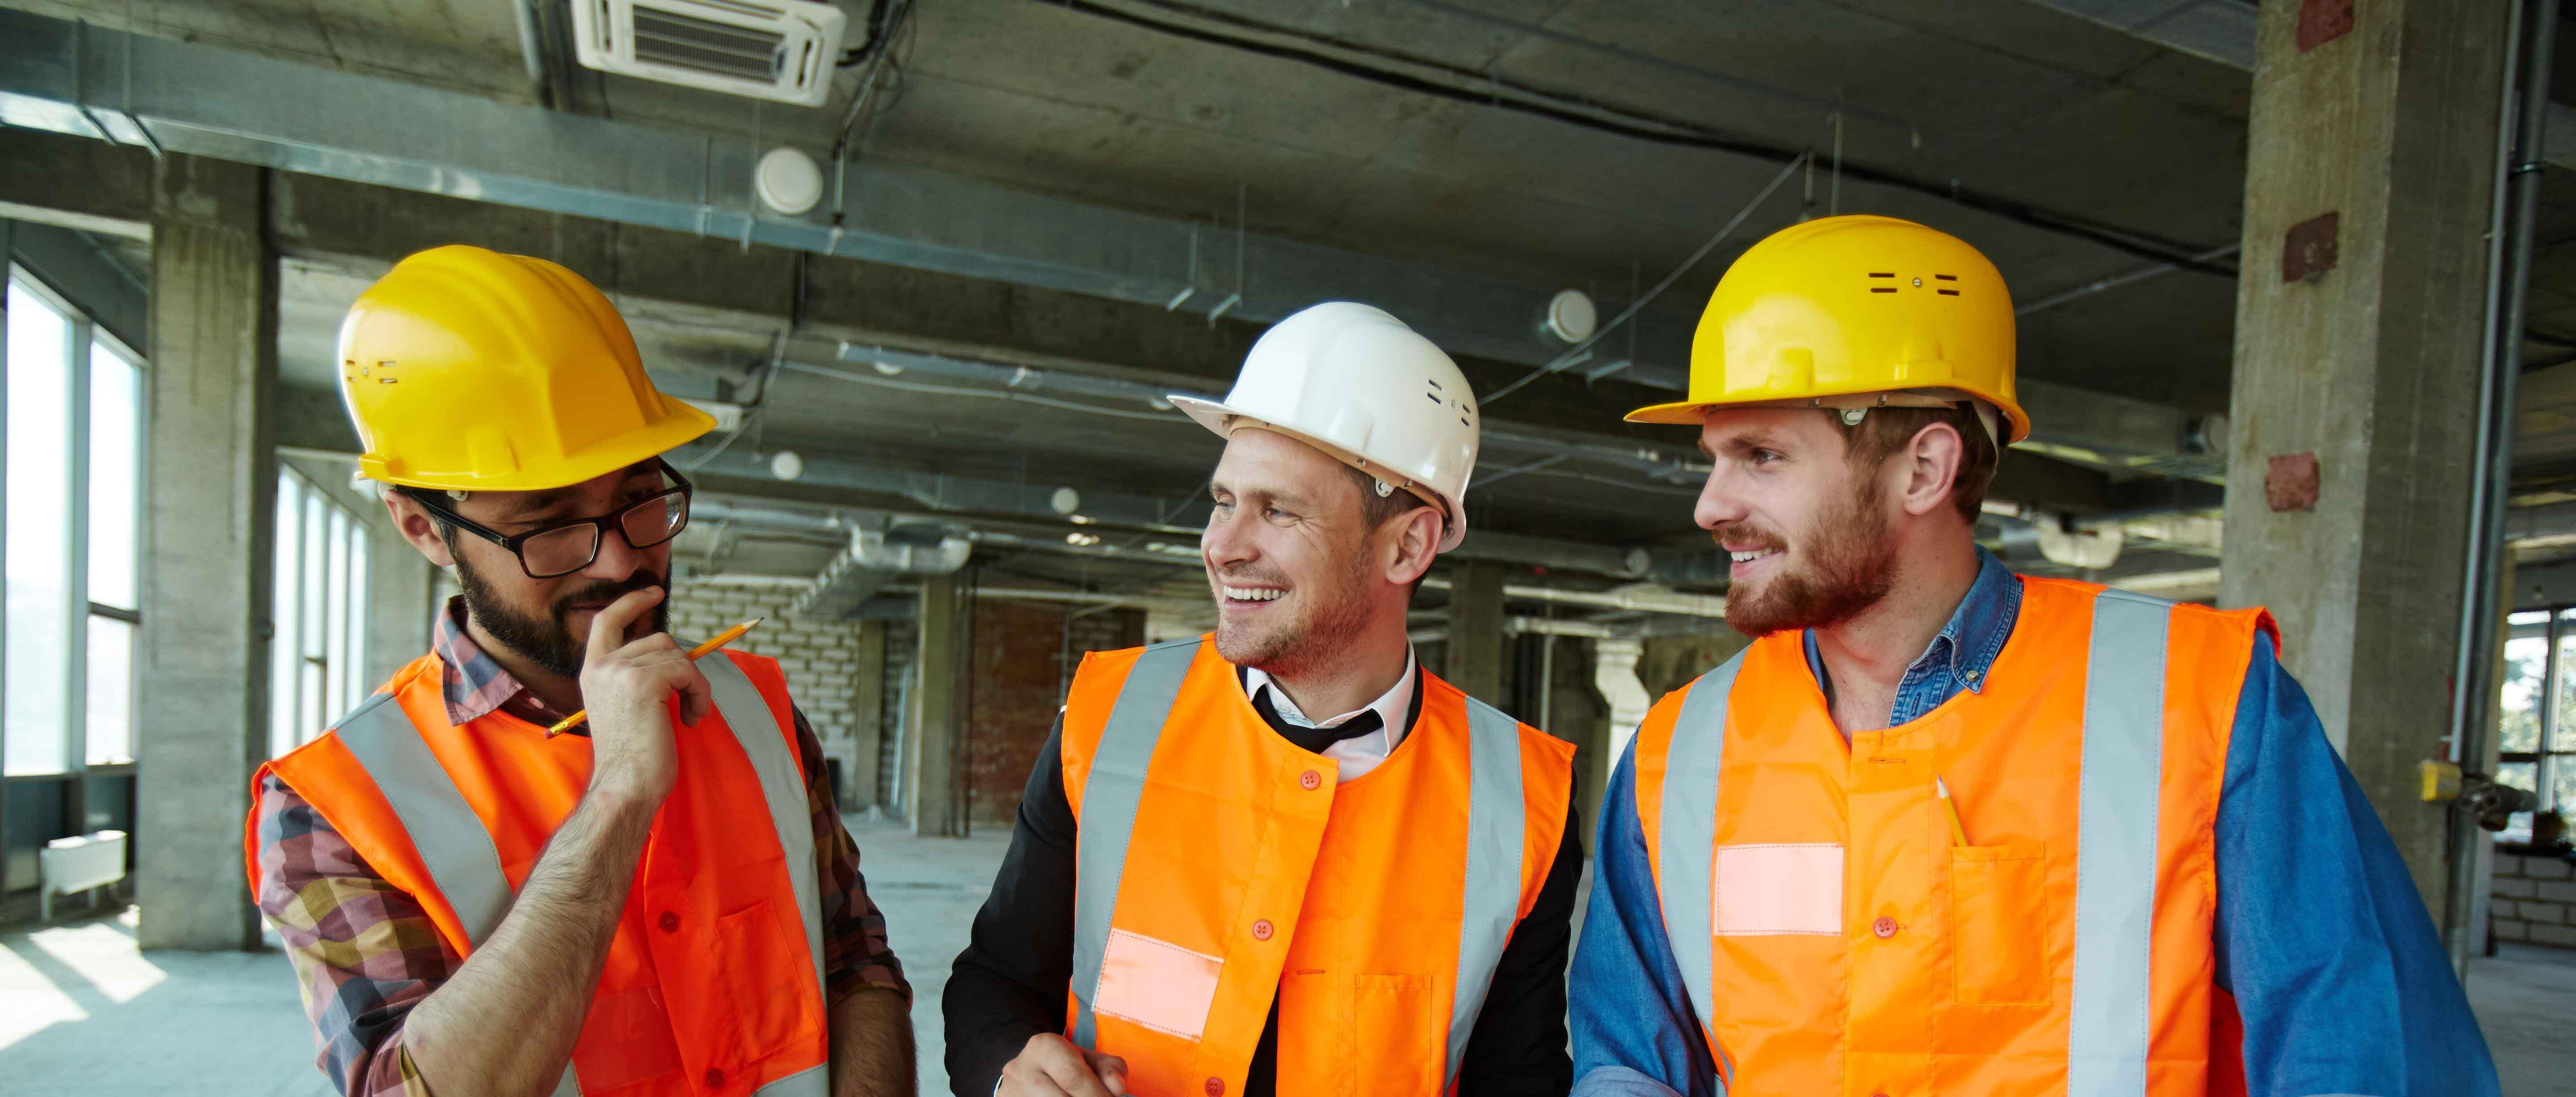helmet: (1619, 207, 2037, 470), (323, 245, 729, 512), (1153, 292, 1493, 550)
person: (1585, 208, 2383, 1097), (244, 240, 903, 1097), (987, 293, 1593, 1097)
vest: (1572, 559, 2343, 1097), (1000, 590, 1559, 1097), (266, 622, 852, 1097)
